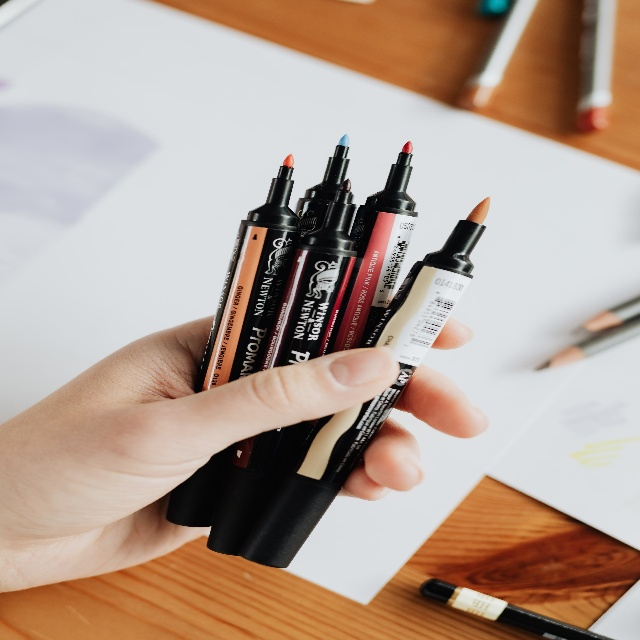Sin_guantes: (1, 313, 495, 594)
